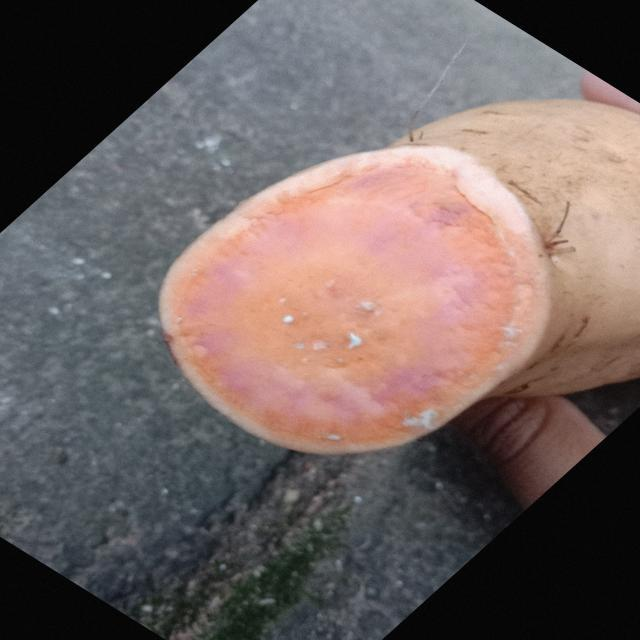Healthy Sweet Potato: (160, 148, 545, 454)
